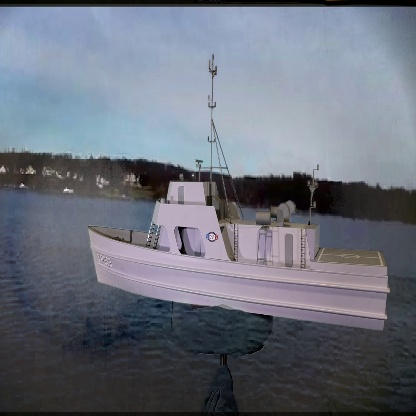YP689: (92, 59, 390, 333)
